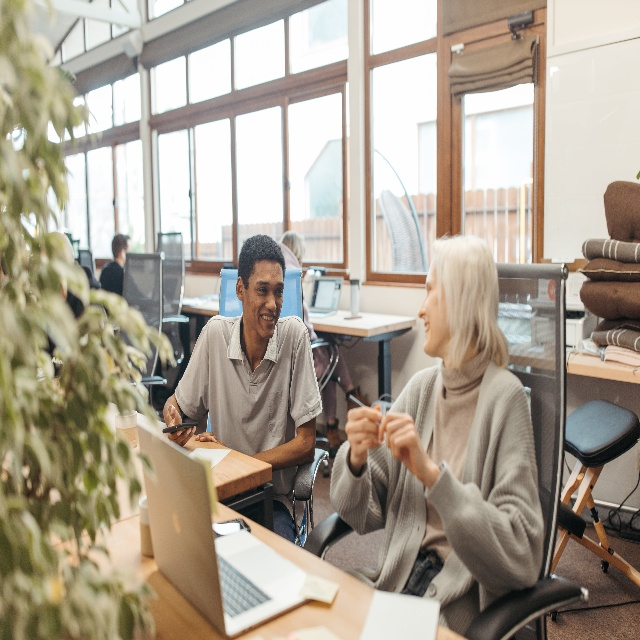Sin_guantes: (378, 411, 428, 481), (345, 405, 383, 464), (167, 404, 196, 447), (195, 431, 225, 447)
